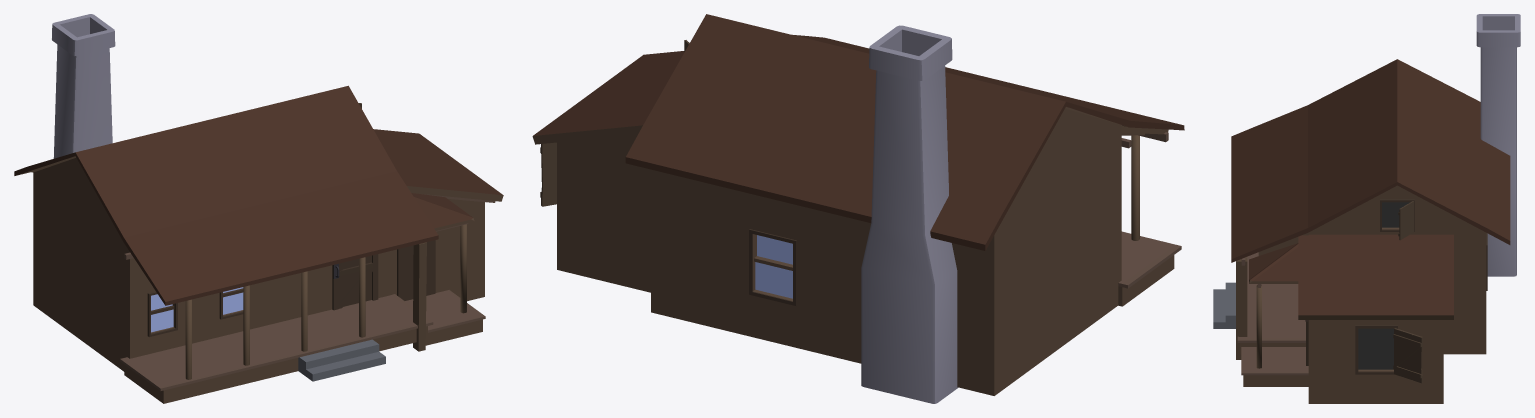
The model's file is Cabin_01_V1Export.fbx.
3 renders of one model, left to right at view 1: azimuth 30°, elevation 25°; view 2: azimuth 150°, elevation 25°; view 3: azimuth 270°, elevation 25°, orthographic. The views are drawn at different scales.
Visible parts, largest first — view 1: MainHouse, Chimney; view 2: MainHouse, Chimney; view 3: MainHouse, Chimney.
Boxes of the visible parts, x1,y1,x2,y2 form: MainHouse: [14, 85, 503, 403]; Chimney: [52, 14, 115, 158]; MainHouse: [532, 14, 1184, 395]; Chimney: [861, 25, 958, 403]; MainHouse: [1213, 59, 1510, 403]; Chimney: [1476, 14, 1520, 276].
Size of the model in its own units: 1494 by 984 by 1112.
